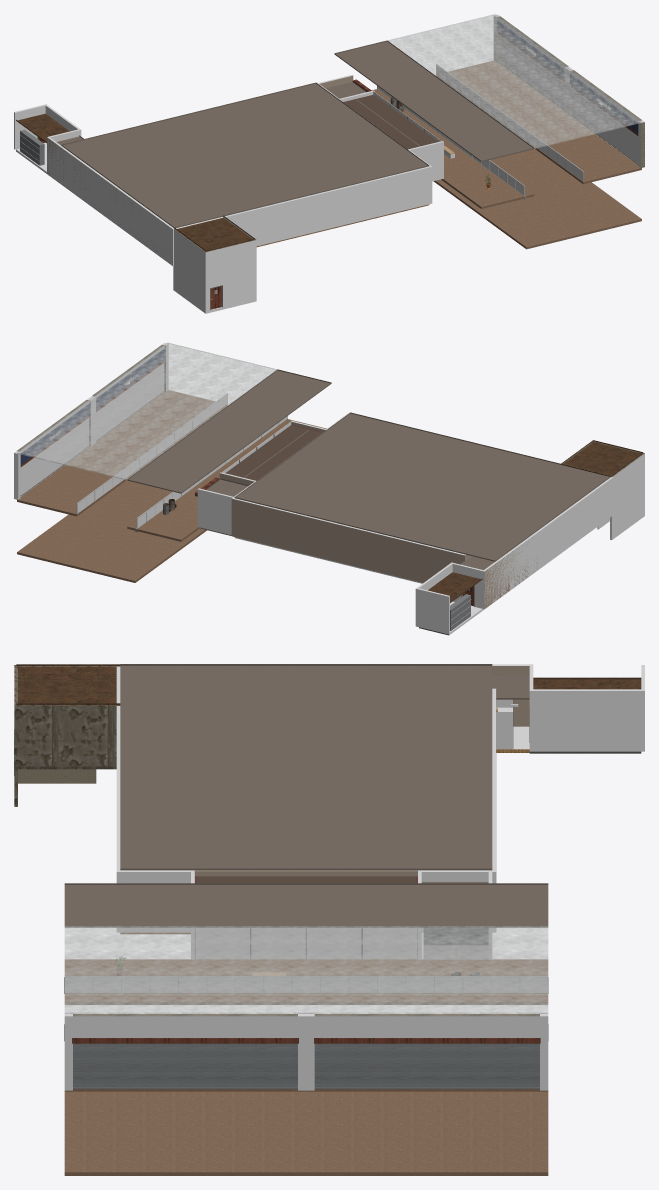
The picture shows the model from 3 angles, top to bottom: view 1: azimuth 30°, elevation 25°; view 2: azimuth 150°, elevation 25°; view 3: azimuth 270°, elevation 25°; orthographic projection. The views are drawn at different scales.
Parts seen in each view (by area): view 1: S_ceiling, COL, S_terrazzo, S_glass_dusty, S_concrete_smooth, S_wall_dark_warm, S_paint_navy, S_steel_dark, S_steel, S_plaster_white, S_wall_warm; view 2: S_ceiling, COL, S_terrazzo, S_glass_dusty, S_wall_warm, S_concrete_smooth, S_wall_dark_warm, S_paint_navy, S_steel_dark, S_steel, S_plaster_white, S_painted_metal; view 3: S_ceiling, S_terrazzo, S_glass_dusty, COL, S_shutter, S_plaster_worn, S_concrete_smooth, S_painted_metal, S_wall_warm, S_plaster_white, S_wall_dark_warm, S_steel_dark (+2 smaller).
Boxes of the visible parts, bbox=[...] form: S_ceiling: bbox=[57, 40, 534, 228]; COL: bbox=[14, 14, 644, 313]; S_terrazzo: bbox=[372, 61, 641, 249]; S_glass_dusty: bbox=[387, 14, 641, 148]; S_concrete_smooth: bbox=[16, 113, 254, 251]; S_wall_dark_warm: bbox=[343, 94, 437, 149]; S_paint_navy: bbox=[497, 20, 638, 133]; S_steel_dark: bbox=[20, 62, 638, 310]; S_steel: bbox=[20, 62, 638, 196]; S_plaster_white: bbox=[378, 16, 641, 199]; S_wall_warm: bbox=[47, 75, 404, 264]; S_ceiling: bbox=[127, 369, 610, 570]; COL: bbox=[14, 343, 644, 635]; S_terrazzo: bbox=[17, 390, 326, 582]; S_glass_dusty: bbox=[17, 342, 276, 480]; S_wall_warm: bbox=[219, 421, 537, 608]; S_concrete_smooth: bbox=[428, 440, 643, 602]; S_wall_dark_warm: bbox=[225, 425, 322, 480]; S_paint_navy: bbox=[20, 348, 165, 464]; S_steel_dark: bbox=[20, 391, 474, 630]; S_steel: bbox=[20, 393, 471, 626]; S_plaster_white: bbox=[17, 345, 286, 531]; S_painted_metal: bbox=[20, 360, 219, 496]; S_ceiling: bbox=[64, 664, 548, 927]; S_terrazzo: bbox=[64, 959, 548, 1175]; S_glass_dusty: bbox=[64, 926, 548, 1013]; COL: bbox=[64, 664, 644, 1090]; S_shutter: bbox=[73, 927, 539, 1087]; S_plaster_worn: bbox=[14, 665, 120, 806]; S_concrete_smooth: bbox=[16, 664, 641, 705]; S_painted_metal: bbox=[72, 1038, 540, 1043]; S_wall_warm: bbox=[194, 666, 529, 882]; S_plaster_white: bbox=[64, 994, 548, 1016]; S_wall_dark_warm: bbox=[195, 876, 417, 883]; S_steel_dark: bbox=[14, 700, 539, 1088].
Size of the model in its own units: 46.56 by 9.7 by 33.92.
73 materials, 32 textured.
